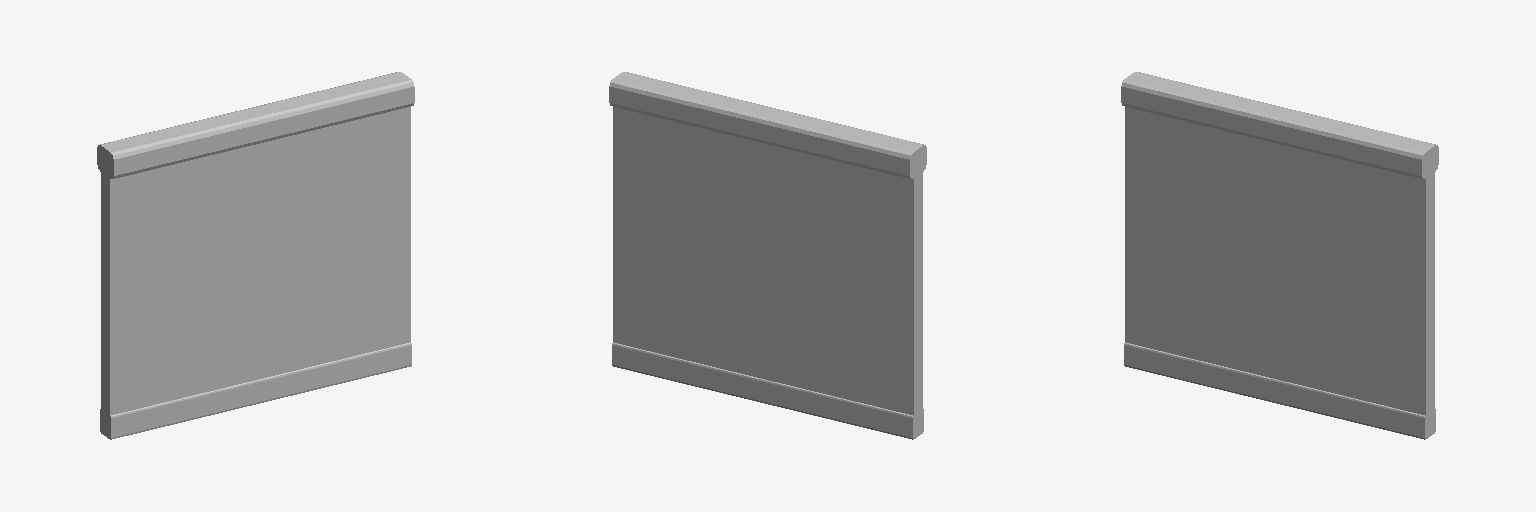
File: modular_wall.obj
3 renders of one model, left to right at view 1: azimuth 30°, elevation 25°; view 2: azimuth 150°, elevation 25°; view 3: azimuth 330°, elevation 25°, orthographic.
Parts seen in each view (by area): view 1: modular_wall_Cube.025; view 2: modular_wall_Cube.025; view 3: modular_wall_Cube.025.
Boxes of the visible parts, <box> form: modular_wall_Cube.025: <box>97,72,414,439</box>; modular_wall_Cube.025: <box>609,72,926,439</box>; modular_wall_Cube.025: <box>1121,72,1438,439</box>.
Size of the model in its own units: 9.3 by 8.49 by 0.8755.